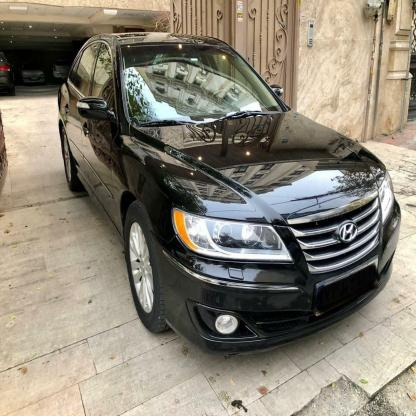Car: (55, 26, 404, 364)
